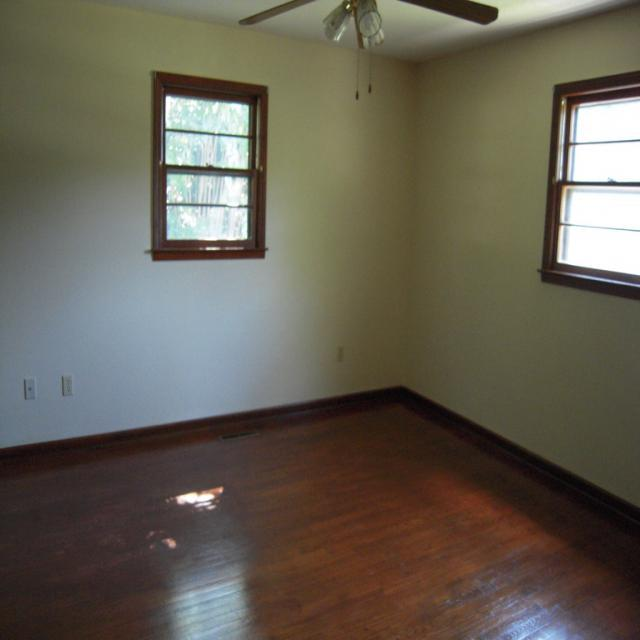fan_off: (238, 0, 494, 36)
